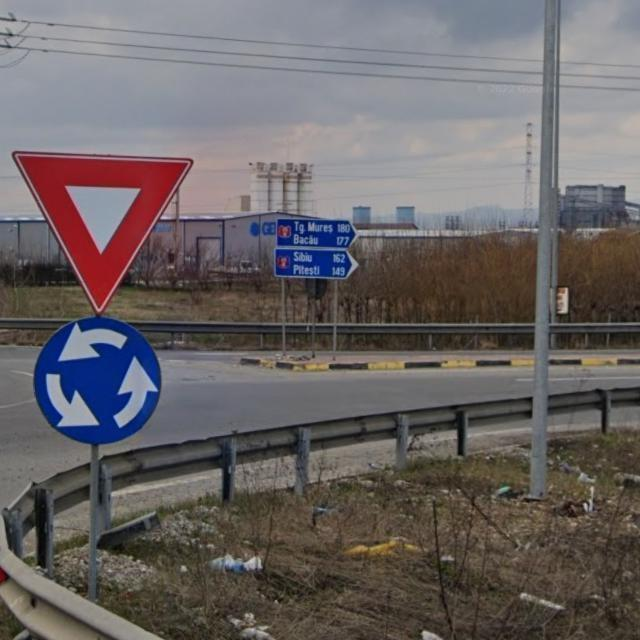prio_give_way: (9, 150, 196, 316)
